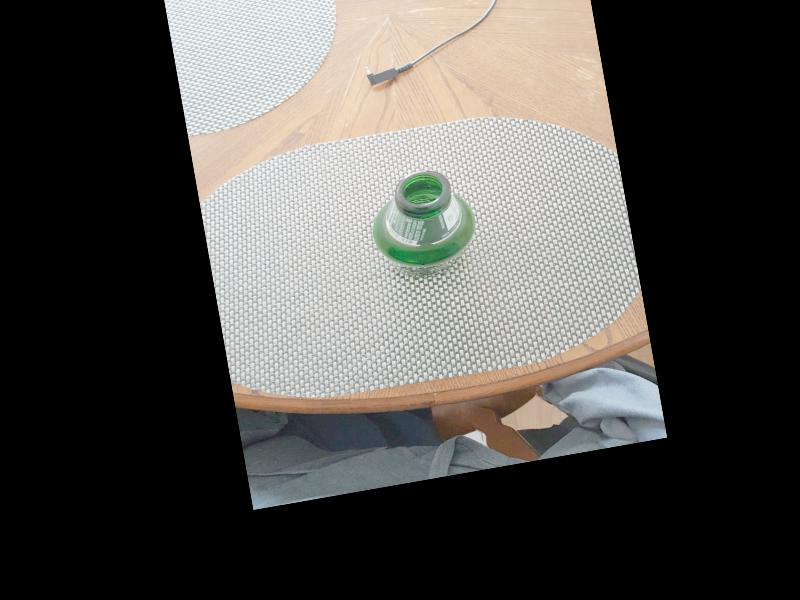Beer: (368, 165, 477, 283)
